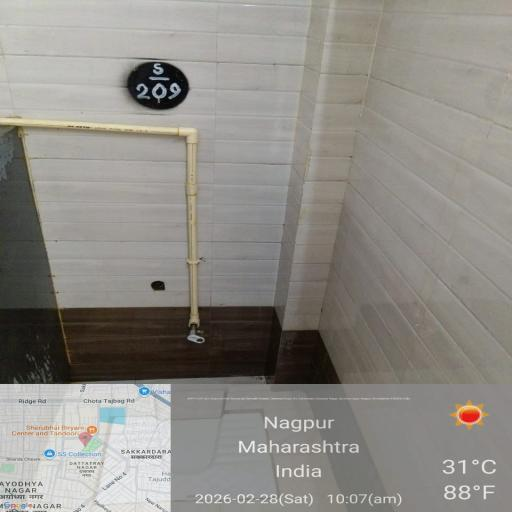clean_floor: (11, 303, 502, 512), (76, 102, 435, 326)
clean_indian: (55, 358, 320, 512)
